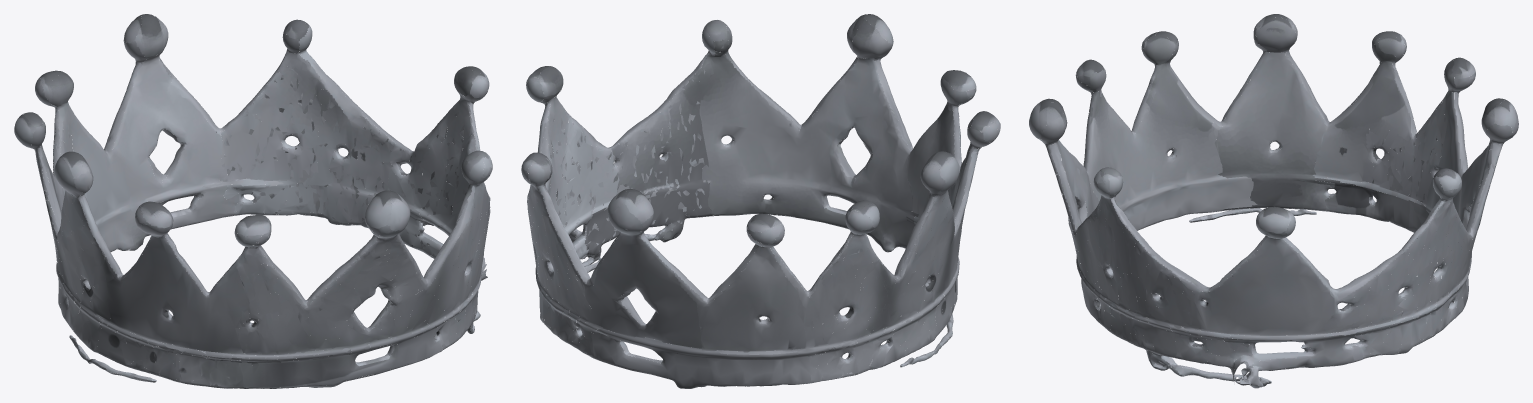
File: corona-plata.glb
The picture shows the model from 3 angles, left to right: view 1: azimuth 30°, elevation 25°; view 2: azimuth 150°, elevation 25°; view 3: azimuth 270°, elevation 25°; orthographic projection. The views are drawn at different scales.
Parts seen in each view (by area): view 1: tmpl8wsos4q.ply; view 2: tmpl8wsos4q.ply; view 3: tmpl8wsos4q.ply.
Part boxes in pixels (x1,y1,x2,y2): tmpl8wsos4q.ply: (14,14,492,388); tmpl8wsos4q.ply: (521,14,1000,388); tmpl8wsos4q.ply: (1029,14,1518,388).
Size of the model in its own units: 1.74 by 0.8511 by 1.84.
Materials: 1 (1 with a texture image).
